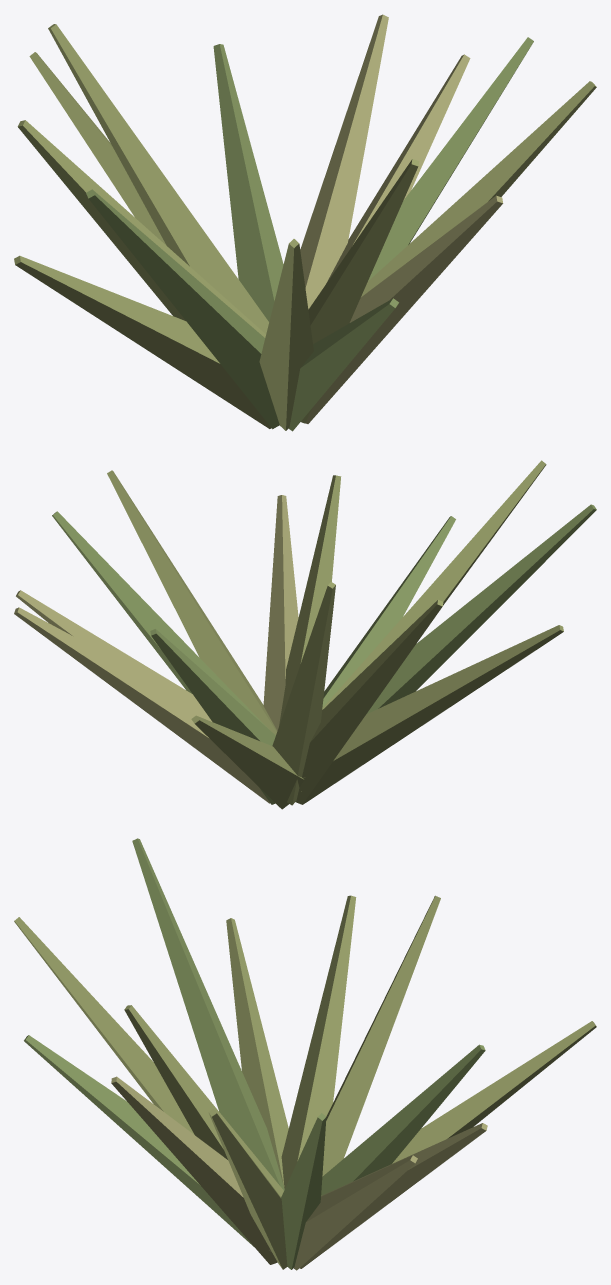
The model's file is Ruderal.glb.
3 views of the same model, one above another, from view 1: azimuth 30°, elevation 25°; view 2: azimuth 150°, elevation 25°; view 3: azimuth 270°, elevation 25° (orthographic). The views are drawn at different scales.
Visible parts, largest first — view 1: Member.113, Member.116, Member.110, Member.115, Member.111, Member.120, Member.117, Member.119, Member.108, Member.121, Member.114, Member.118 (+2 smaller); view 2: Member.115, Member.116, Member.110, Member.114, Member.121, Member.113, Member.120, Member.117, Member.108, Member.119, Member.112, Member.111 (+2 smaller); view 3: Member.116, Member.114, Member.113, Member.120, Member.115, Member.111, Member.117, Member.112, Member.118, Member.119, Member.109, Member.121 (+2 smaller).
Part boxes in pixels (<box>): Member.113: <box>48,24,268,334</box>; Member.116: <box>86,189,279,429</box>; Member.110: <box>300,14,388,309</box>; Member.115: <box>14,255,271,428</box>; Member.111: <box>213,44,283,321</box>; Member.120: <box>305,195,503,423</box>; Member.117: <box>259,239,313,430</box>; Member.119: <box>301,159,419,423</box>; Member.108: <box>368,37,533,280</box>; Member.121: <box>361,81,596,296</box>; Member.114: <box>17,120,265,337</box>; Member.118: <box>289,298,398,431</box>; Member.115: <box>302,625,563,804</box>; Member.116: <box>366,504,596,714</box>; Member.110: <box>14,607,270,803</box>; Member.114: <box>295,600,443,804</box>; Member.121: <box>107,470,277,734</box>; Member.113: <box>272,582,335,805</box>; Member.120: <box>263,495,298,730</box>; Member.117: <box>301,460,546,791</box>; Member.108: <box>52,511,268,728</box>; Member.119: <box>279,475,341,725</box>; Member.112: <box>191,715,304,809</box>; Member.111: <box>150,629,275,804</box>; Member.116: <box>132,838,284,1190</box>; Member.114: <box>281,895,356,1188</box>; Member.113: <box>322,895,440,1176</box>; Member.120: <box>111,1076,277,1264</box>; Member.115: <box>226,918,288,1186</box>; Member.111: <box>321,1044,485,1195</box>; Member.117: <box>14,917,194,1134</box>; Member.112: <box>392,1021,596,1163</box>; Member.118: <box>24,1035,253,1246</box>; Member.119: <box>124,1005,283,1196</box>; Member.109: <box>293,1155,417,1270</box>; Member.121: <box>208,1109,287,1269</box>.
Size of the model in its own units: 0.9469 by 0.5845 by 0.9931.
